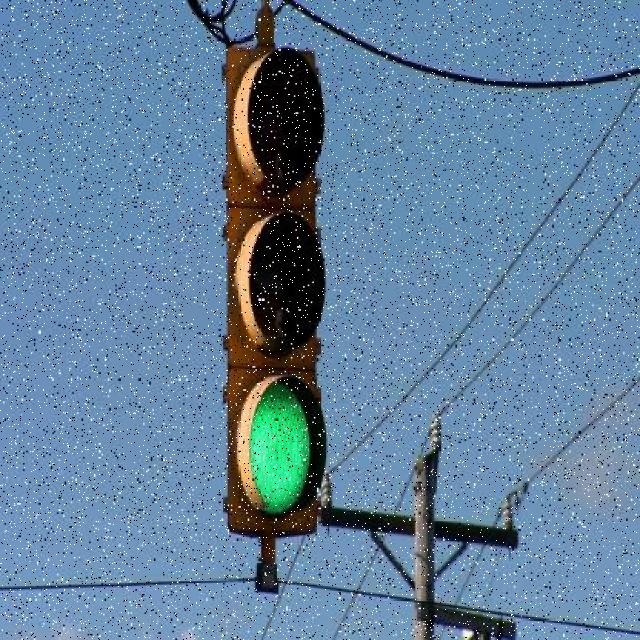green-light: (237, 348, 323, 522)
